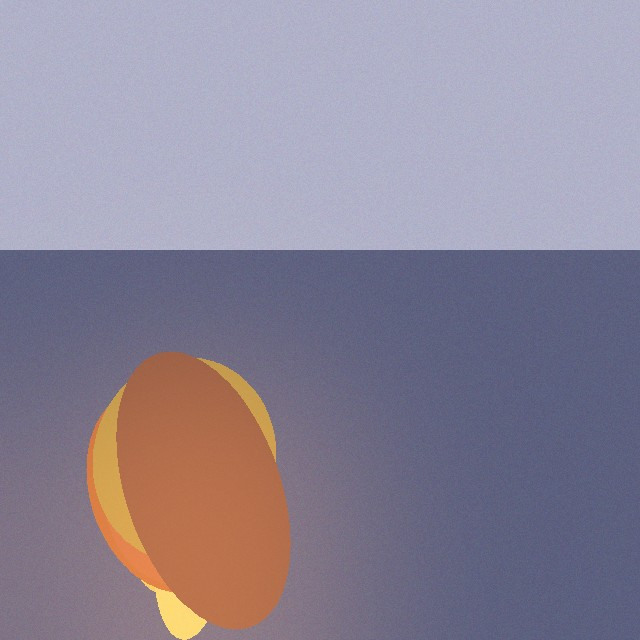fire: (81, 430, 307, 628)
